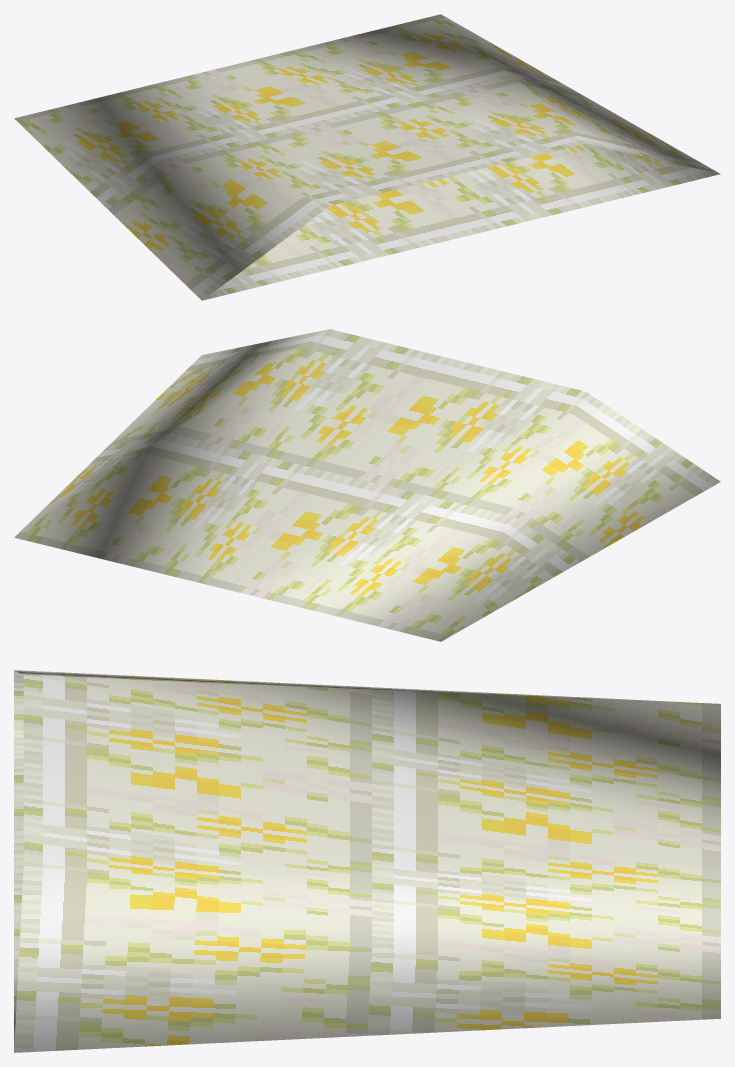
Rendered from 2341skirt00_c.gltf.
3 views of the same model, one above another, from view 1: azimuth 30°, elevation 25°; view 2: azimuth 150°, elevation 25°; view 3: azimuth 270°, elevation 25° (orthographic). The views are drawn at different scales.
Visible parts, largest first — view 1: 2341skirt00_c; view 2: 2341skirt00_c; view 3: 2341skirt00_c.
Part boxes in pixels (x1=…): 2341skirt00_c: x1=14, y1=14, x2=720, y2=300; 2341skirt00_c: x1=14, y1=329, x2=720, y2=641; 2341skirt00_c: x1=14, y1=670, x2=720, y2=1052.
Size of the model in its own units: 0.7896 by 0.0879 by 0.6162.
Materials: 1 (1 with a texture image).
